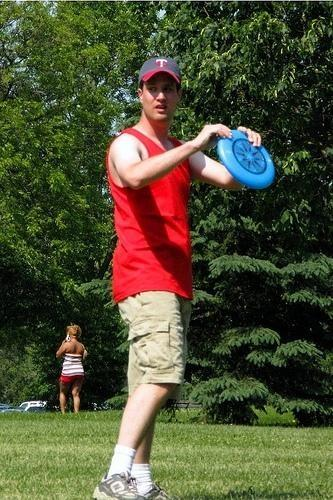car: (3, 400, 48, 412), (23, 406, 49, 412)
